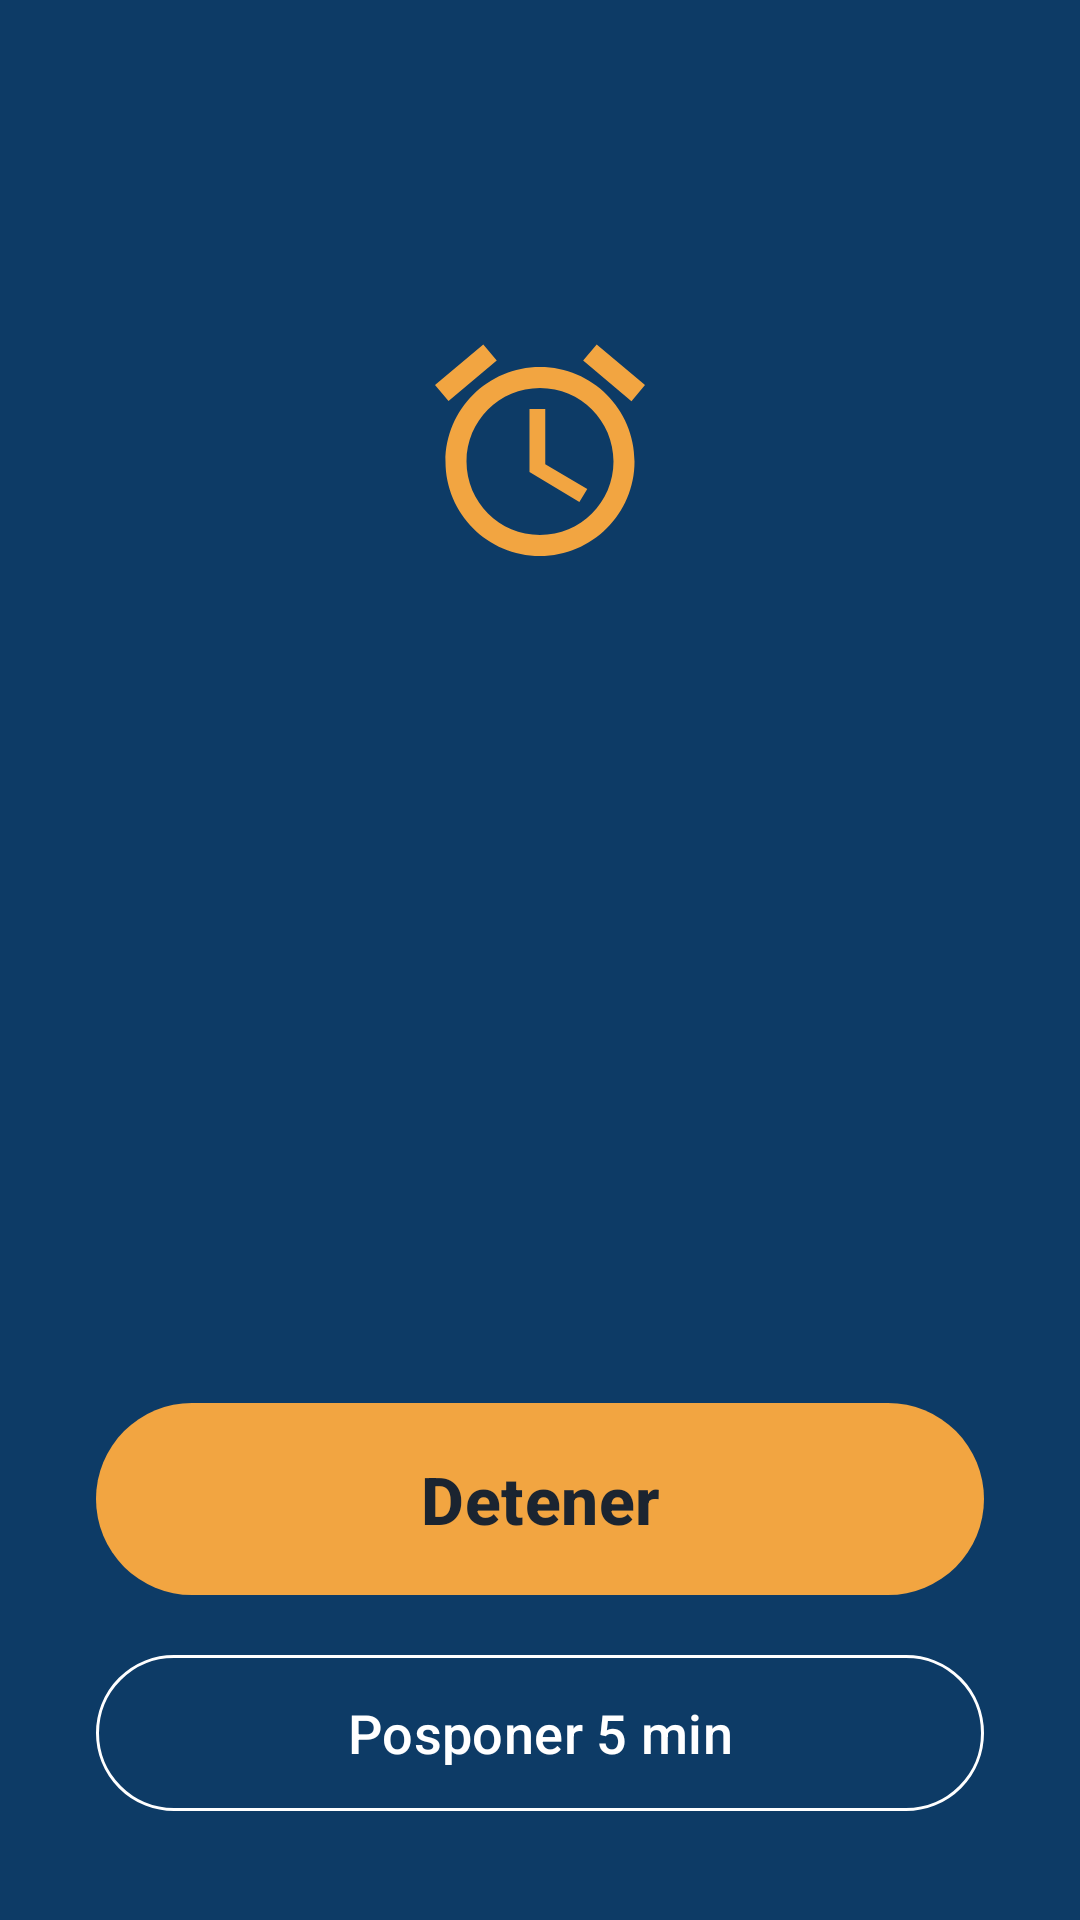

Where icons sit on this 1080×1920 app screen, as rect(x1, y1, x2, y2):
alarma: rect(435, 344, 645, 556)
